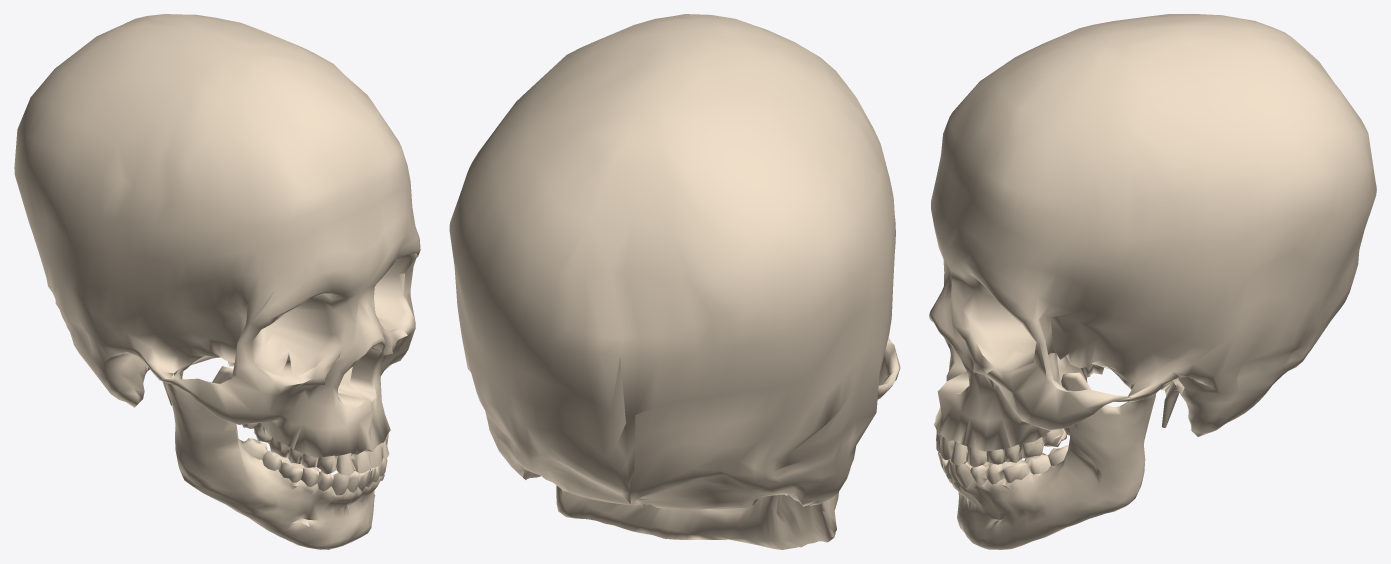
The model's file is skull.obj.
3 views of the same model, side by side, from view 1: azimuth 30°, elevation 25°; view 2: azimuth 150°, elevation 25°; view 3: azimuth 270°, elevation 25° (orthographic). The views are drawn at different scales.
Visible parts, largest first — view 1: skull, jaw, lteeth, uteeth; view 2: skull, jaw; view 3: skull, jaw, lteeth, uteeth.
Boxes of the visible parts, box(x1,y1,x2,y2) form: skull: box(14, 14, 420, 460); jaw: box(165, 366, 384, 549); lteeth: box(242, 438, 387, 495); uteeth: box(242, 422, 389, 475); skull: box(449, 14, 900, 509); jaw: box(556, 485, 838, 549); skull: box(929, 14, 1376, 451); jaw: box(943, 372, 1156, 549); lteeth: box(938, 445, 1068, 487); uteeth: box(936, 427, 1069, 467).
Size of the model in its own units: 5.23 by 7.32 by 6.14.
